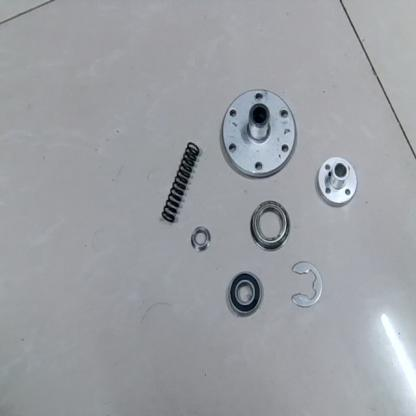FOD: (218, 87, 298, 180), (160, 139, 200, 228), (250, 202, 291, 255), (314, 158, 358, 207), (226, 272, 265, 319), (292, 260, 323, 309), (188, 224, 212, 252)
